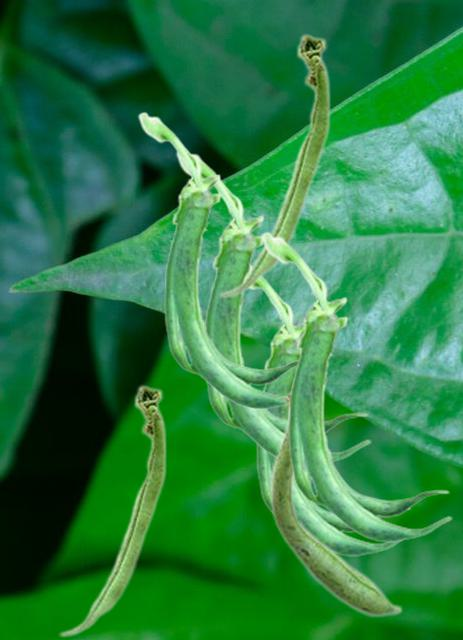french_bean: (175, 149, 370, 463), (260, 231, 451, 542), (137, 111, 297, 409), (250, 277, 411, 556), (269, 390, 402, 617), (217, 32, 330, 298), (58, 383, 166, 637)
